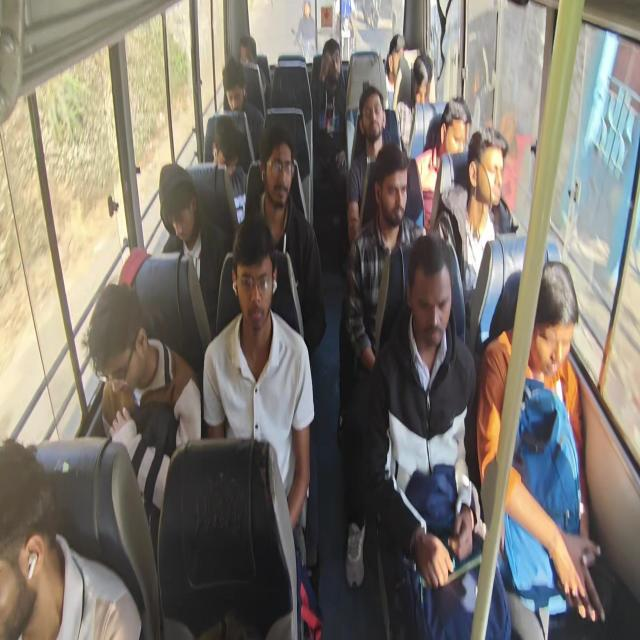person: (363, 233, 512, 638), (476, 259, 605, 637), (339, 142, 427, 587), (202, 213, 315, 540), (82, 280, 201, 562), (1, 438, 142, 638), (243, 123, 326, 356), (435, 126, 508, 306), (158, 162, 229, 339), (118, 246, 205, 370), (311, 38, 348, 258), (346, 85, 396, 245), (414, 95, 472, 231), (222, 56, 264, 167), (395, 53, 434, 151), (212, 115, 246, 224), (238, 34, 270, 110), (384, 33, 405, 109), (294, 1, 316, 63), (412, 53, 433, 105)
